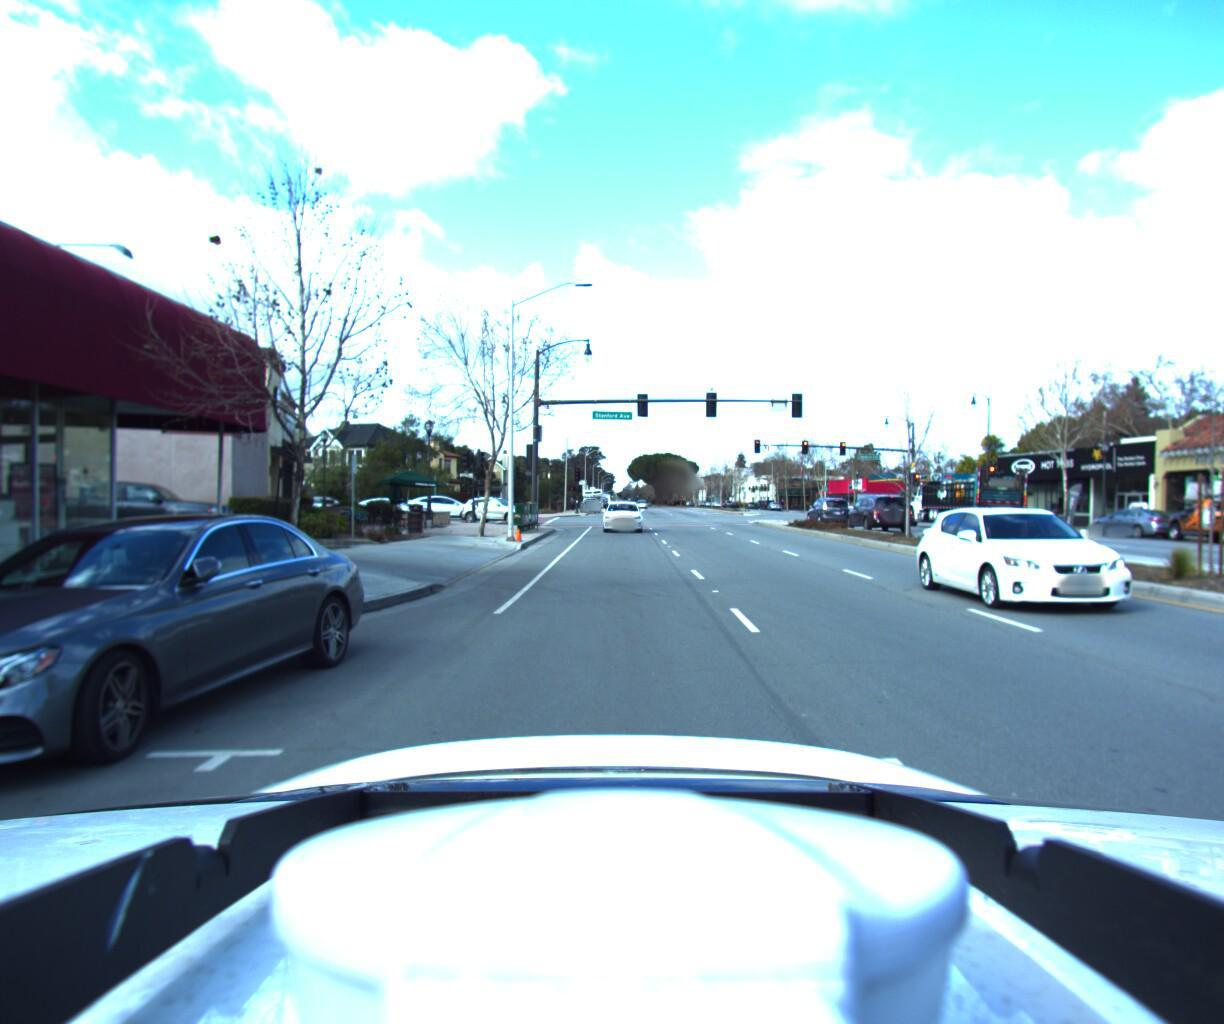car: (0, 510, 378, 829), (942, 500, 1224, 631), (0, 480, 237, 552), (1154, 494, 1224, 546), (1082, 507, 1189, 540), (840, 494, 916, 531), (452, 496, 533, 524), (402, 493, 481, 521), (599, 498, 642, 532), (801, 496, 852, 525)
truck: (901, 459, 1042, 533)
